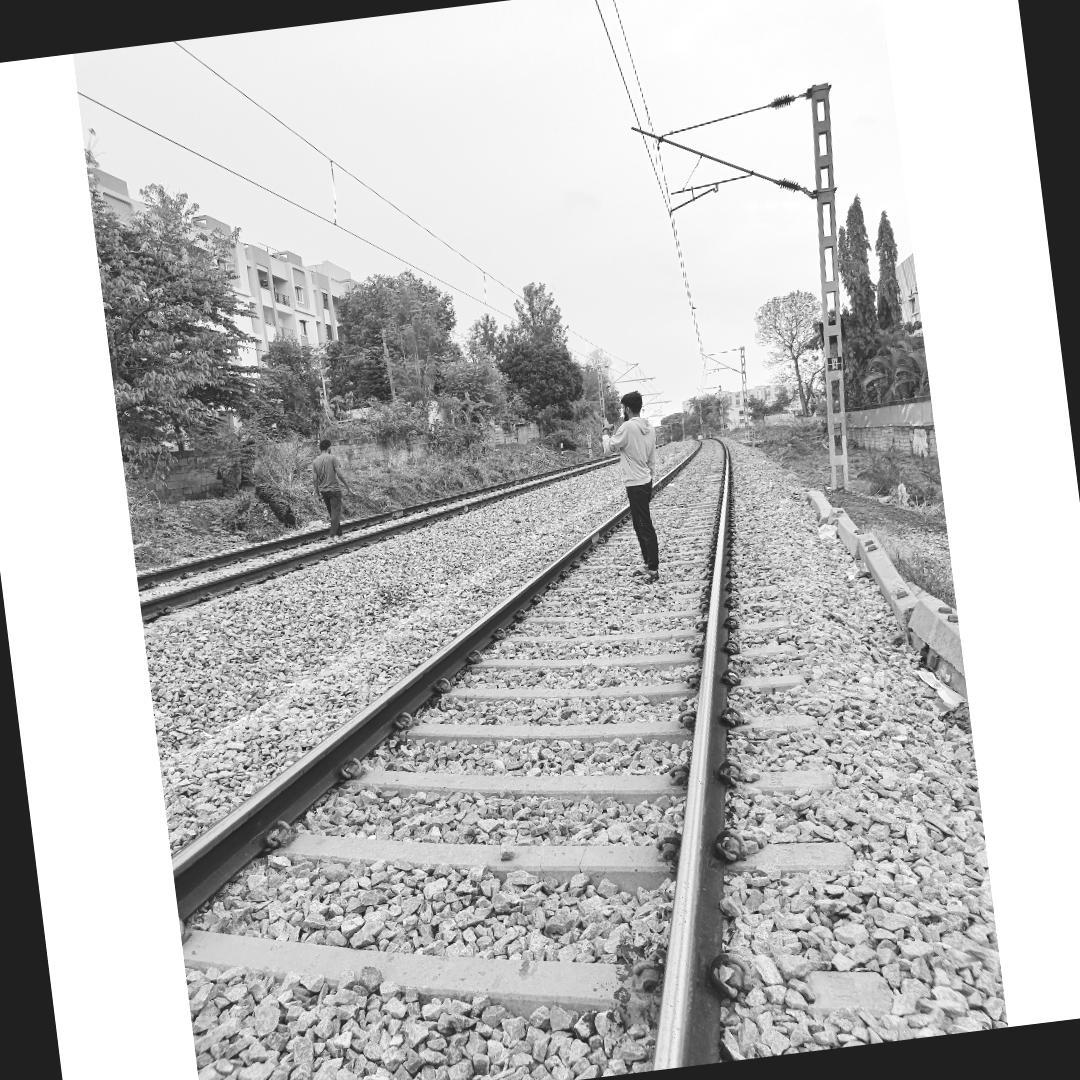standing: (594, 387, 675, 587), (307, 434, 360, 544)
track: (166, 420, 871, 1080), (136, 431, 654, 692)
